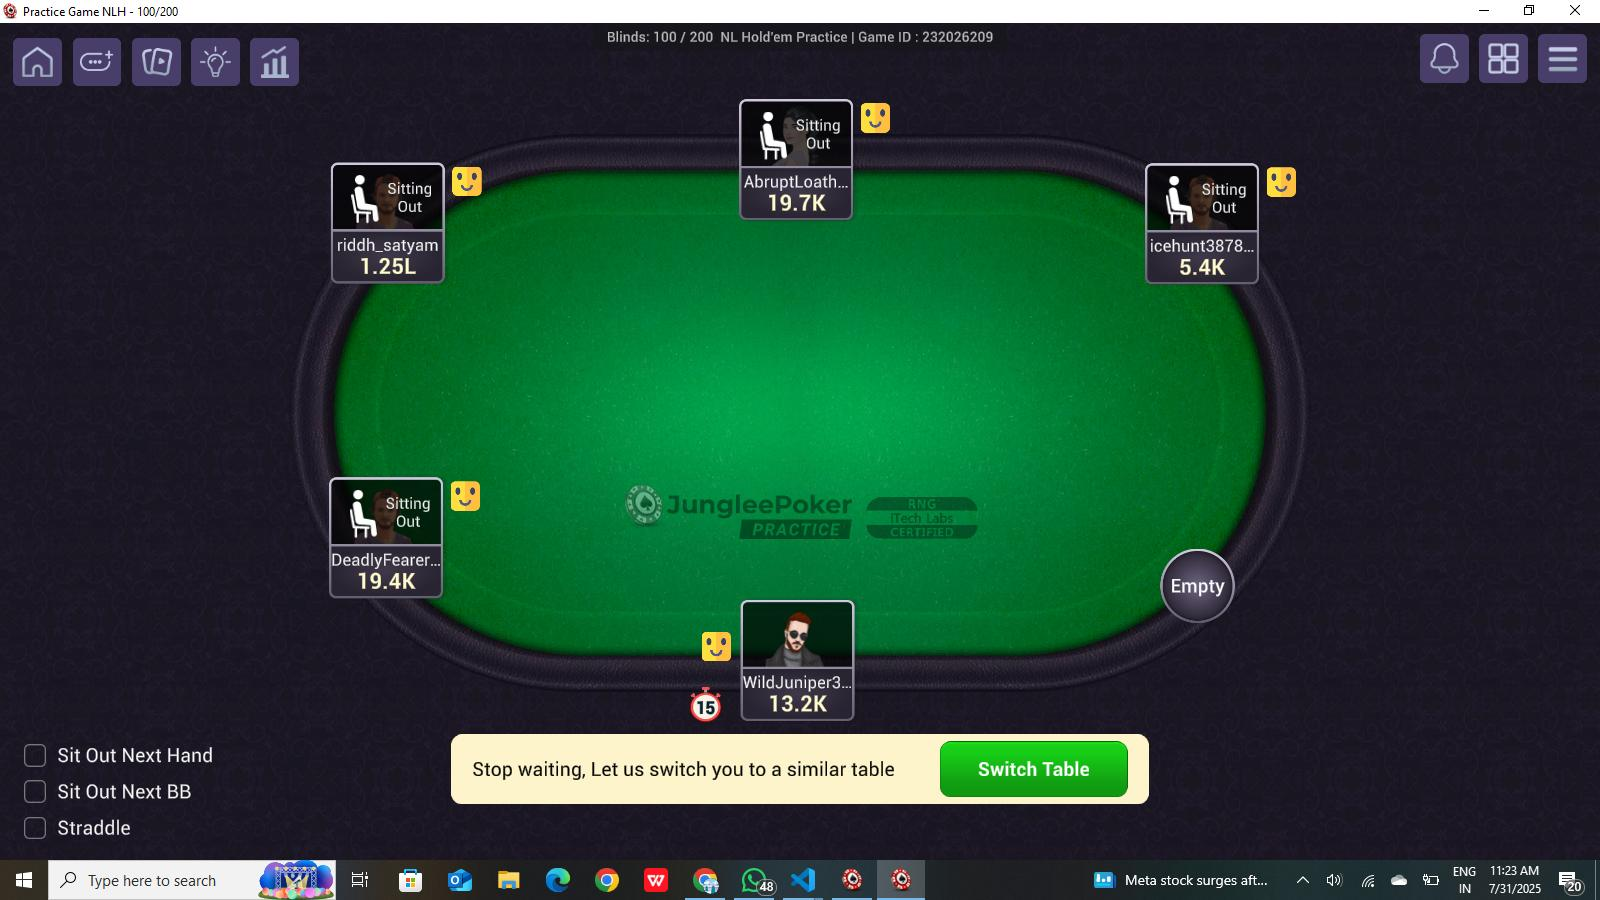my_stack: (757, 687, 845, 722), (857, 30, 1020, 45)
